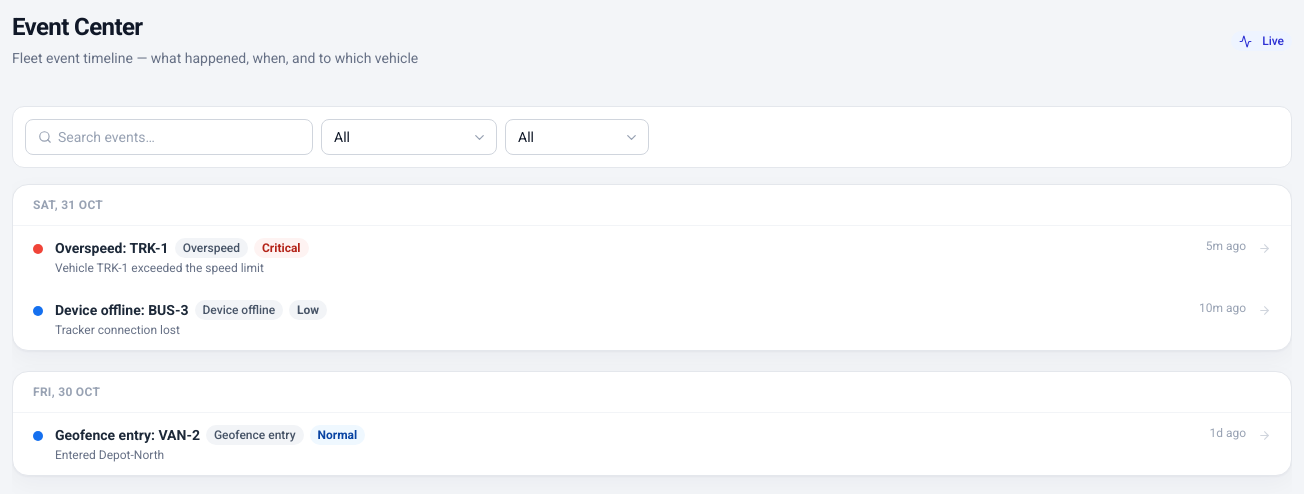
it: EventCenterPage — timeline rendering › filters by type and severity (URL-synced)
Select "Overspeed" in the dropdown named "Type" at (409,137), box top-left (321, 119), bottom-right (497, 155)
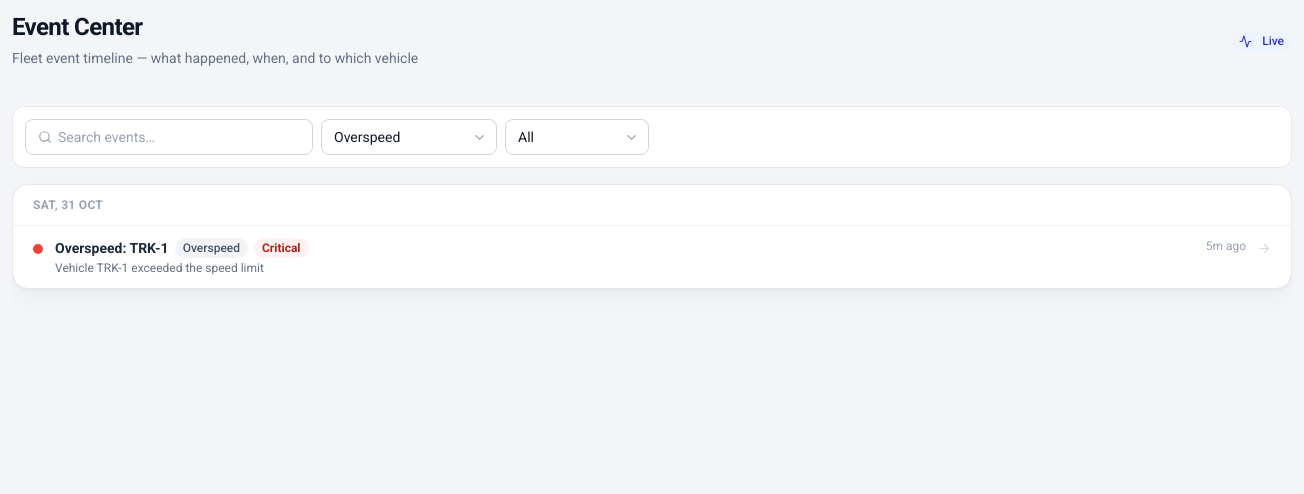
Expected: the text "Overspeed: TRK-1" is shown, top-left (55, 238), bottom-right (169, 258)
Result: the button "Device offline: BUS-3" is gone
